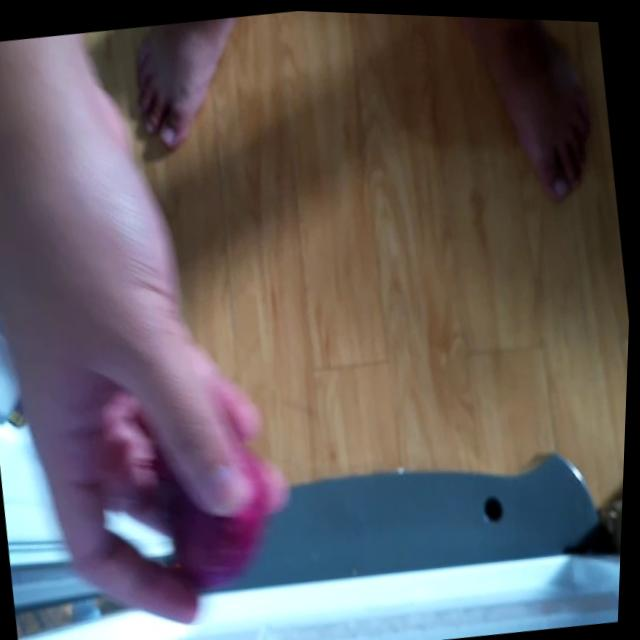onion: (160, 430, 285, 586)
